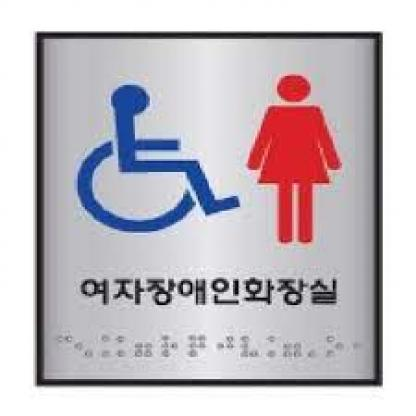toilet: (76, 73, 346, 245)
